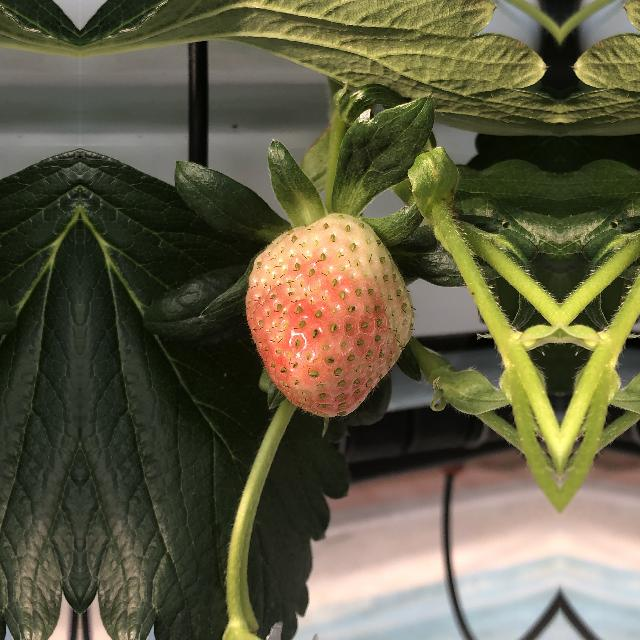Health_75: (243, 209, 415, 425)
